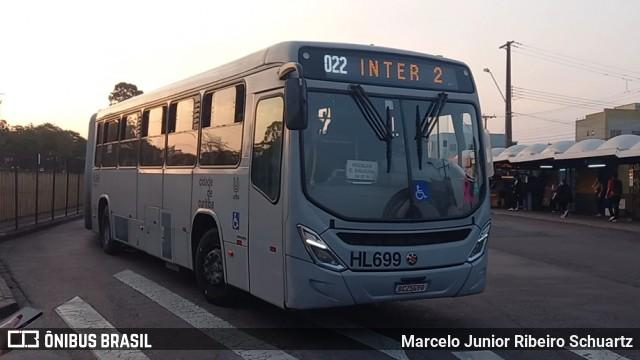INTER 2: (354, 54, 447, 88)
